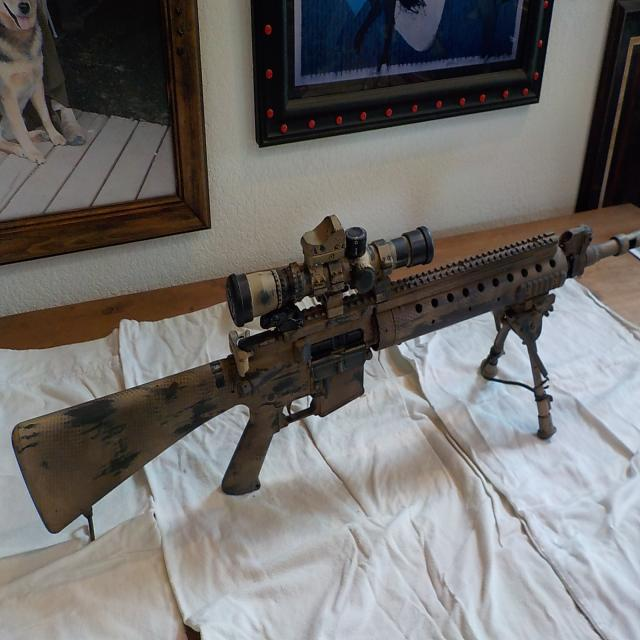Rifle: (11, 218, 640, 535)
